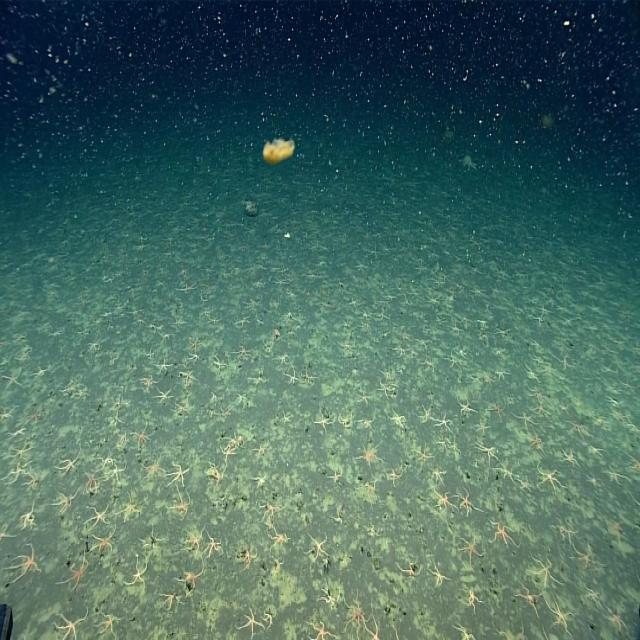brittle-stars: (8, 548, 41, 586), (52, 611, 88, 640), (544, 597, 571, 634), (531, 554, 558, 588), (236, 606, 262, 640), (396, 550, 423, 582), (514, 580, 540, 613), (68, 550, 88, 592), (345, 597, 367, 635), (489, 520, 516, 550), (178, 565, 204, 595), (97, 610, 121, 640), (128, 556, 148, 590), (573, 547, 599, 573), (305, 534, 330, 561), (1, 459, 34, 478), (551, 522, 579, 544), (167, 462, 189, 490), (536, 465, 560, 490), (85, 504, 109, 529), (172, 490, 191, 521), (356, 446, 382, 468), (1, 366, 23, 392), (19, 499, 38, 529), (475, 442, 499, 465), (158, 590, 184, 611), (486, 396, 506, 423), (58, 452, 81, 475), (183, 530, 204, 555), (313, 409, 332, 436), (204, 532, 223, 559), (120, 495, 141, 519), (513, 408, 536, 429), (308, 620, 332, 640), (460, 538, 480, 562), (90, 534, 114, 554), (268, 530, 291, 550), (359, 480, 379, 503), (607, 607, 626, 631), (218, 442, 236, 467), (454, 619, 475, 640), (260, 498, 280, 520), (462, 588, 482, 610), (238, 543, 256, 567), (132, 425, 150, 449), (568, 415, 586, 439), (413, 444, 433, 465), (168, 311, 188, 332), (24, 408, 43, 430), (528, 430, 545, 454), (322, 585, 337, 612), (605, 465, 625, 485), (388, 468, 404, 493), (434, 490, 452, 512), (436, 411, 454, 433), (418, 402, 436, 424), (457, 396, 475, 418), (430, 564, 446, 588), (173, 400, 192, 420), (56, 493, 74, 514), (516, 474, 533, 496), (234, 342, 252, 362), (389, 409, 407, 429), (366, 619, 383, 640), (535, 400, 552, 421), (562, 449, 580, 468), (26, 469, 40, 493), (262, 605, 275, 630), (111, 394, 128, 413), (459, 493, 474, 514), (300, 368, 315, 389), (378, 364, 395, 382), (282, 367, 298, 386), (378, 379, 393, 399), (156, 386, 172, 404), (179, 368, 195, 386), (235, 310, 250, 329), (358, 388, 372, 408), (107, 412, 123, 429), (328, 468, 342, 487), (84, 470, 95, 494), (188, 334, 201, 354), (252, 472, 268, 487), (254, 442, 268, 459), (158, 357, 170, 374), (87, 338, 99, 355), (483, 371, 496, 386), (116, 431, 128, 446)
